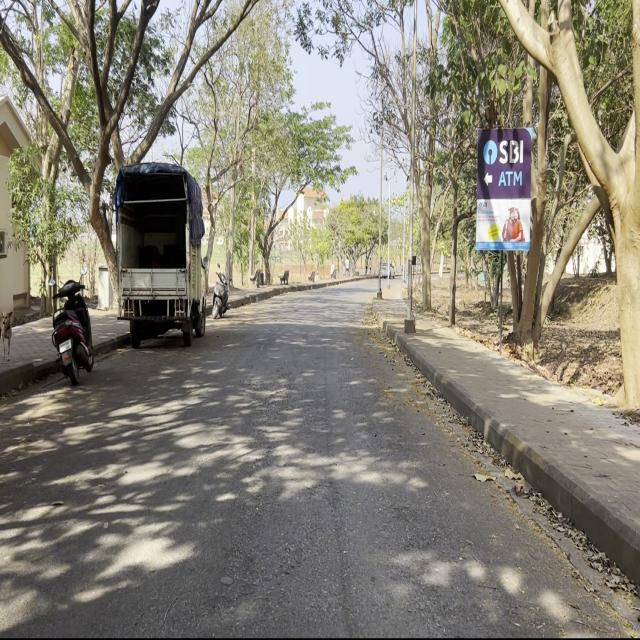Object: (112, 162, 211, 360), (48, 272, 96, 388)
Road: (3, 283, 636, 634)
